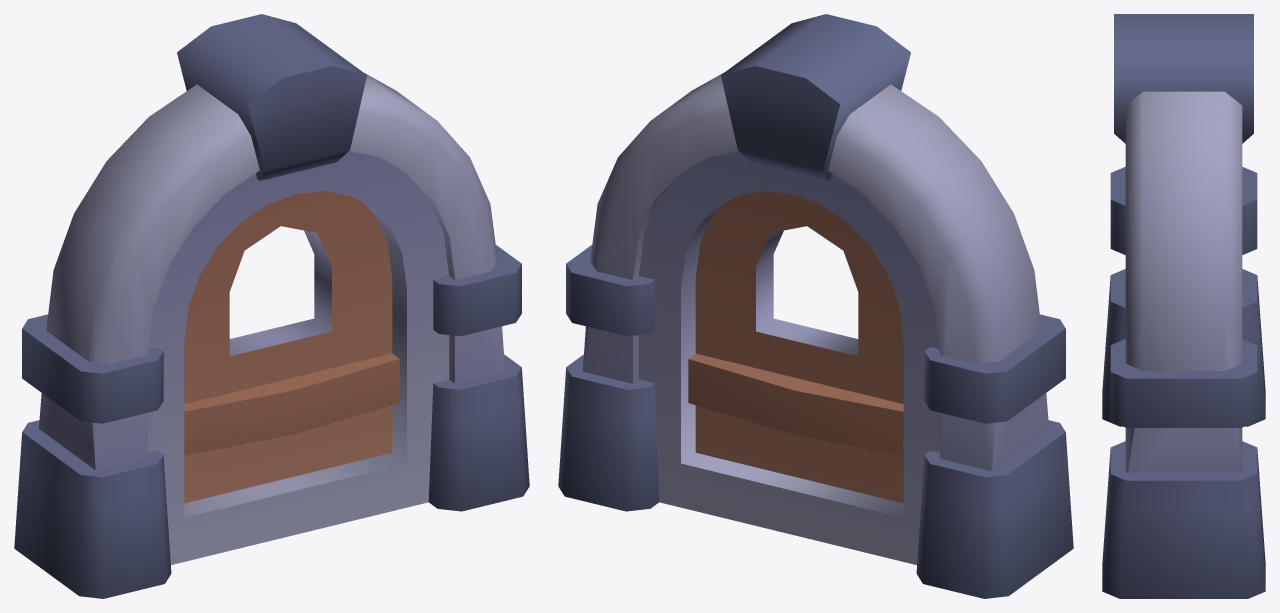
Rendered from gate_door_window.glb.
3 renders of one model, left to right at view 1: azimuth 30°, elevation 25°; view 2: azimuth 150°, elevation 25°; view 3: azimuth 270°, elevation 25°, orthographic.
Visible parts, largest first — view 1: gate-door-window, door; view 2: gate-door-window, door; view 3: gate-door-window.
Boxes of the visible parts, <box> form: gate-door-window: <box>14,14,529,598</box>; door: <box>148,151,449,564</box>; gate-door-window: <box>558,14,1073,598</box>; door: <box>638,151,939,564</box>; gate-door-window: <box>1102,14,1265,598</box>.
Bounding box in the file's own units: 4.4 × 4.4 × 1.4.
Materials: 1 (1 with a texture image).
